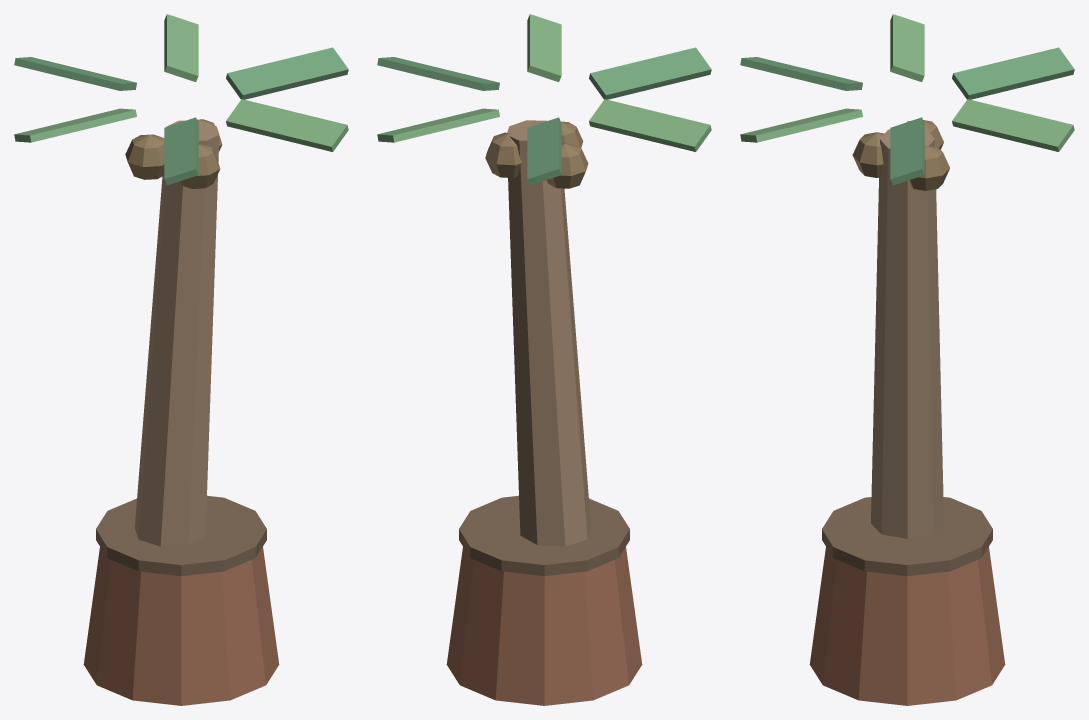
File: planta_palmeira.glb
3 views of the same model, side by side, from view 1: azimuth 30°, elevation 25°; view 2: azimuth 150°, elevation 25°; view 3: azimuth 270°, elevation 25° (orthographic).
Parts seen in each view (by area): view 1: PLANTA_PALMEIRA; view 2: PLANTA_PALMEIRA; view 3: PLANTA_PALMEIRA.
Part boxes in pixels (x1,y1,x2,y2): PLANTA_PALMEIRA: [14, 14, 348, 705]; PLANTA_PALMEIRA: [377, 14, 711, 705]; PLANTA_PALMEIRA: [740, 14, 1074, 705].
Size of the model in its own units: 0.6 by 1.04 by 0.5475.
